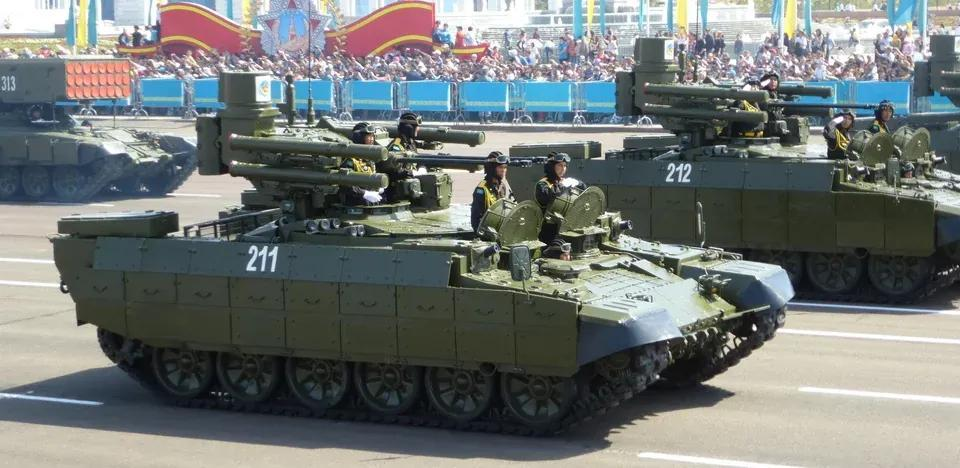MIL_IFV: (48, 93, 797, 432), (502, 44, 957, 303)
